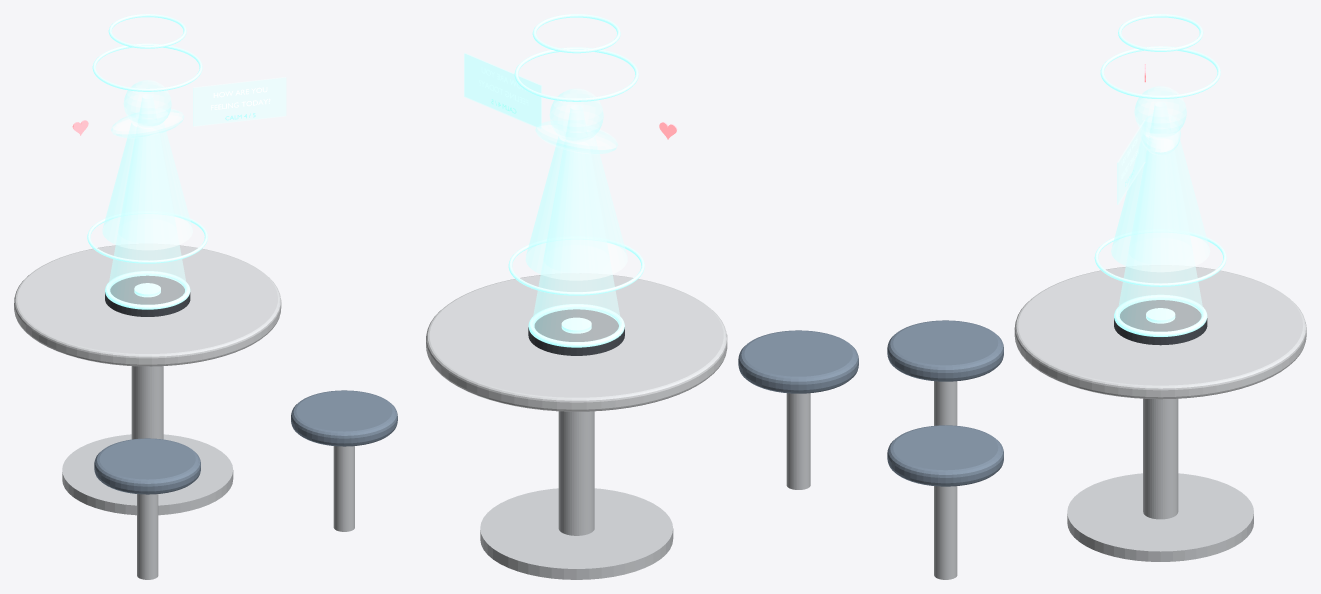
File: hologram_companion.glb
3 views of the same model, side by side, from view 1: azimuth 30°, elevation 25°; view 2: azimuth 150°, elevation 25°; view 3: azimuth 270°, elevation 25° (orthographic). The views are drawn at different scales.
Visible parts, largest first — view 1: Projector_Base, Counsellor_Head, Emotion_Ring; view 2: Projector_Base, Counsellor_Head, Emotion_Ring; view 3: Projector_Base, Counsellor_Head, Emotion_Ring.
Boxes of the visible parts, bbox=[...] form: Projector_Base: bbox=[14, 244, 397, 579]; Counsellor_Head: bbox=[102, 77, 286, 304]; Emotion_Ring: bbox=[87, 14, 207, 309]; Projector_Base: bbox=[426, 273, 858, 579]; Counsellor_Head: bbox=[464, 53, 627, 341]; Emotion_Ring: bbox=[508, 14, 644, 347]; Projector_Base: bbox=[887, 265, 1306, 579]; Counsellor_Head: bbox=[1111, 86, 1210, 331]; Emotion_Ring: bbox=[1094, 14, 1226, 336].
Bounding box in the file's own units: 1.25 × 1.86 × 1.44.
Materials: 6 (6 with a texture image).
